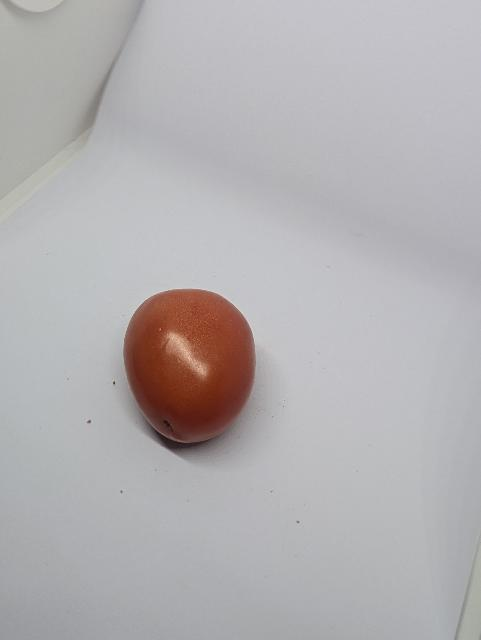red: (122, 286, 261, 450)
